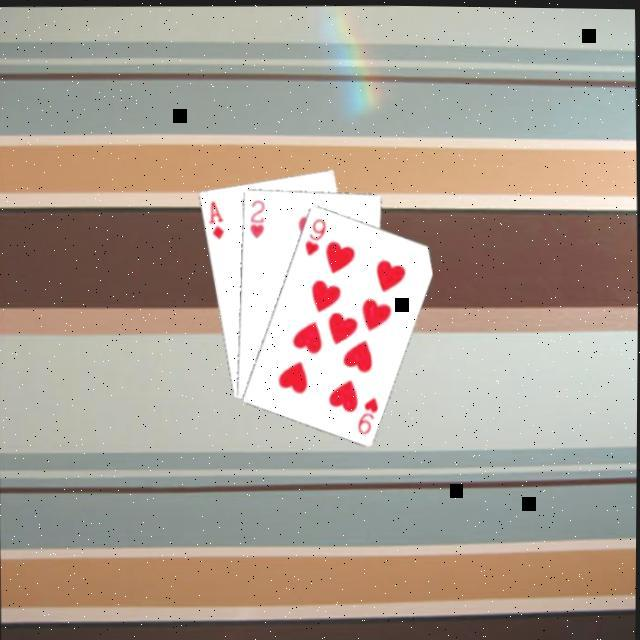2H: (244, 197, 266, 240)
9H: (300, 214, 328, 258), (353, 393, 381, 437)
AD: (202, 198, 225, 242)
